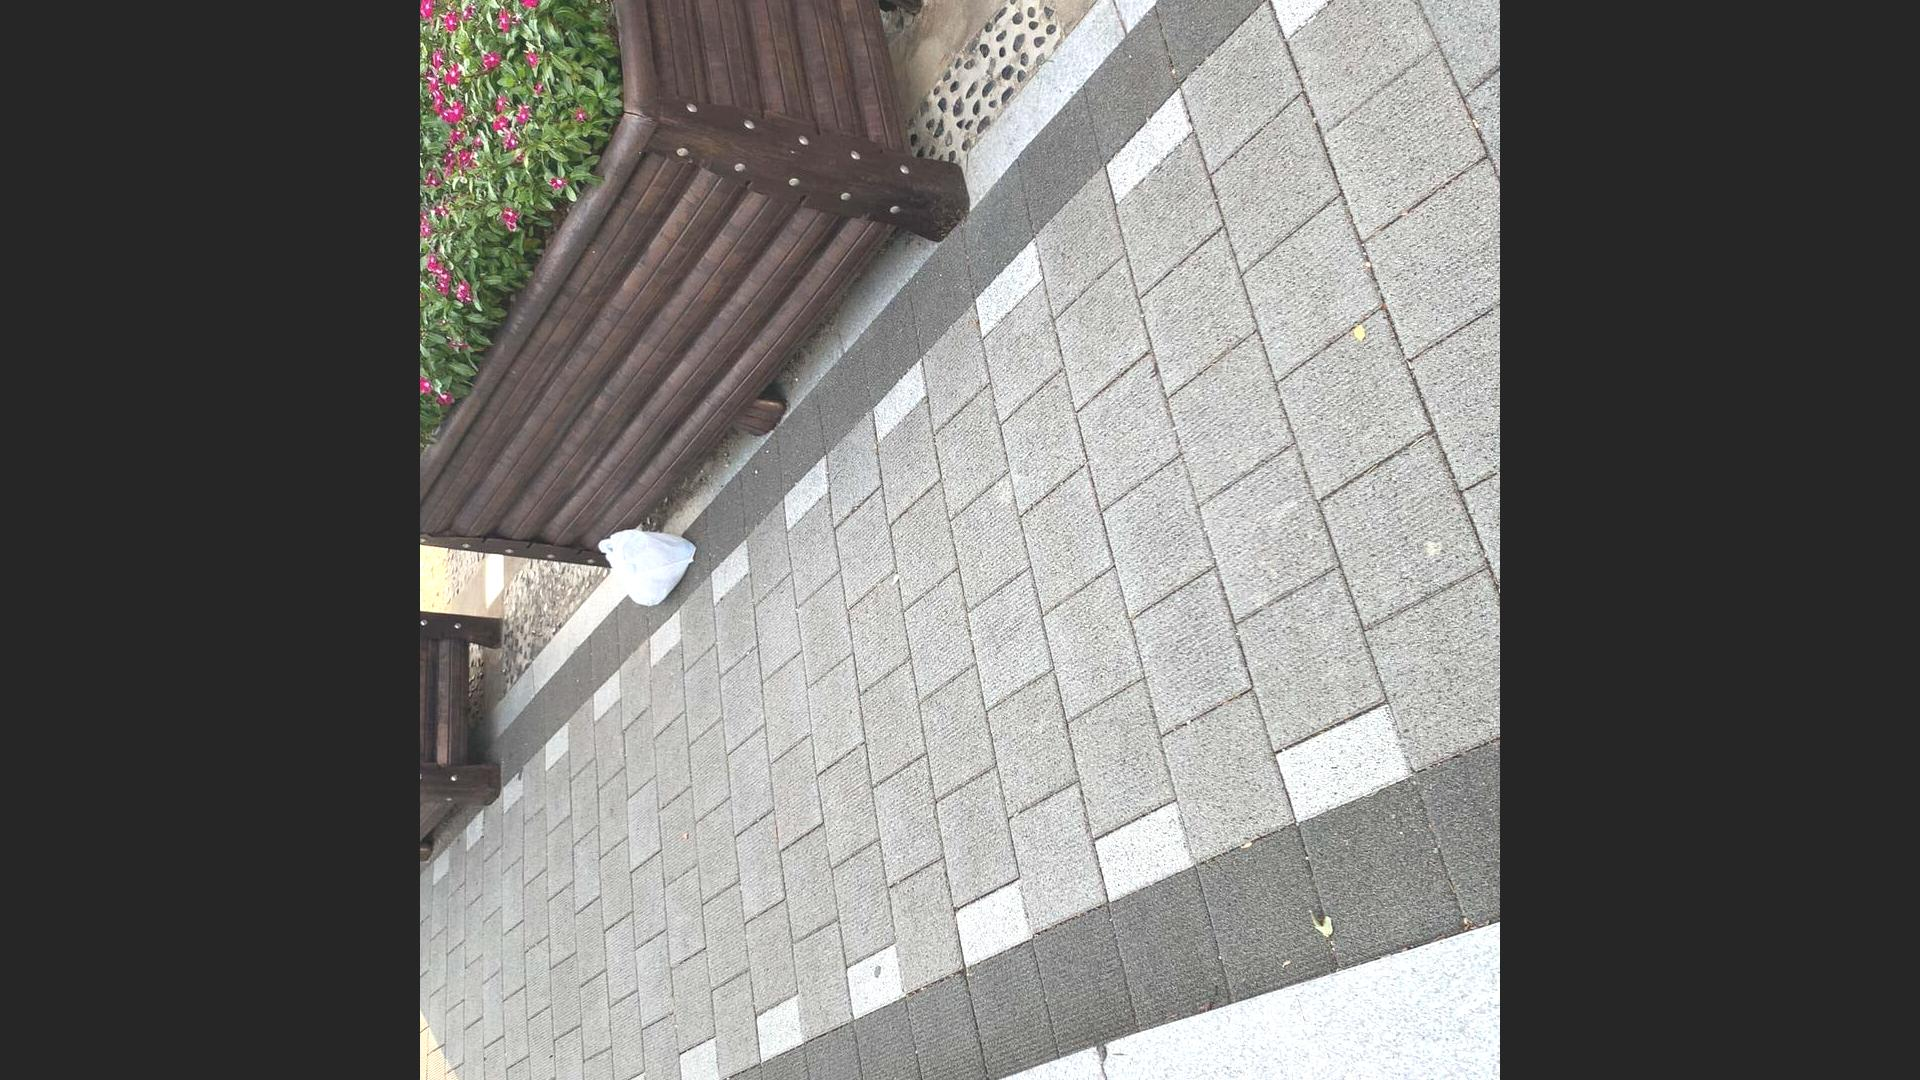white_bag: (595, 518, 700, 615)
